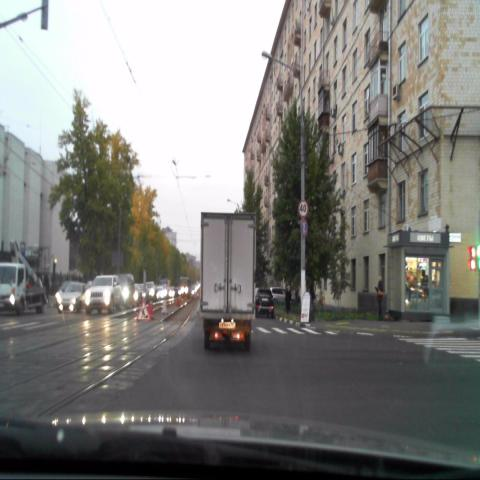1_25: (136, 299, 150, 321)
